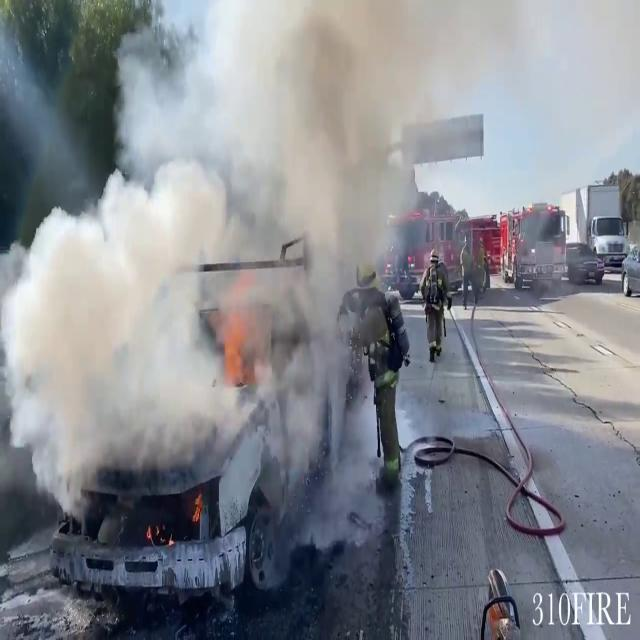Smoke: (0, 0, 440, 523)
